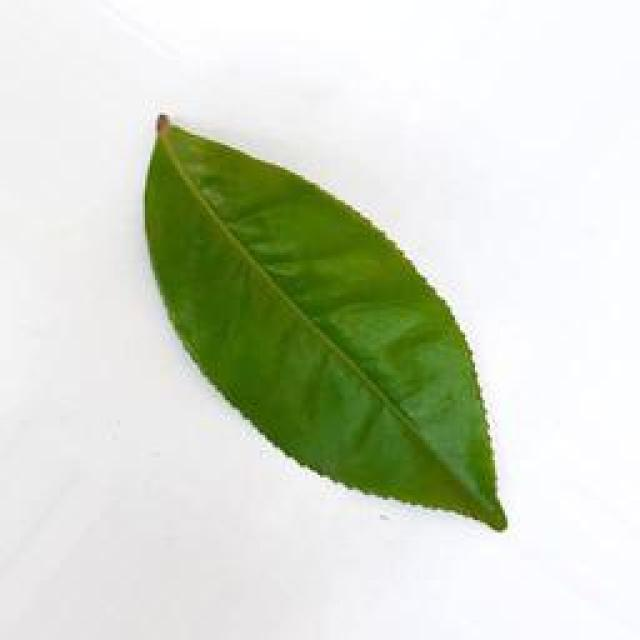Healthy: (137, 103, 545, 562)
